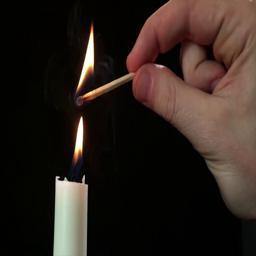fire: (75, 26, 95, 94), (74, 116, 84, 164)
